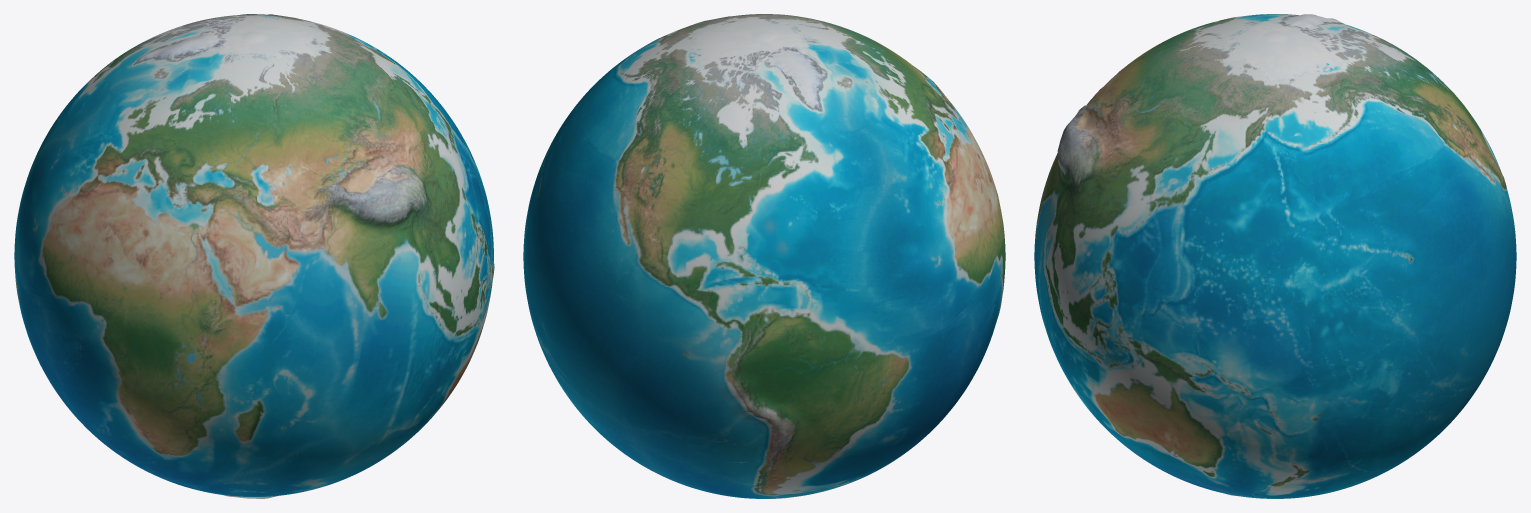
File: globe.gltf
The picture shows the model from 3 angles, left to right: view 1: azimuth 30°, elevation 25°; view 2: azimuth 150°, elevation 25°; view 3: azimuth 270°, elevation 25°; orthographic projection.
Visible parts, largest first — view 1: pSphereShape2; view 2: pSphereShape2; view 3: pSphereShape2.
Boxes of the visible parts, x1,y1,x2,y2 form: pSphereShape2: (14, 14, 494, 498); pSphereShape2: (523, 14, 1005, 498); pSphereShape2: (1034, 14, 1516, 498).
Bounding box in the file's own units: 39.64 × 40.45 × 39.64.
Materials: 1 (1 with a texture image).
